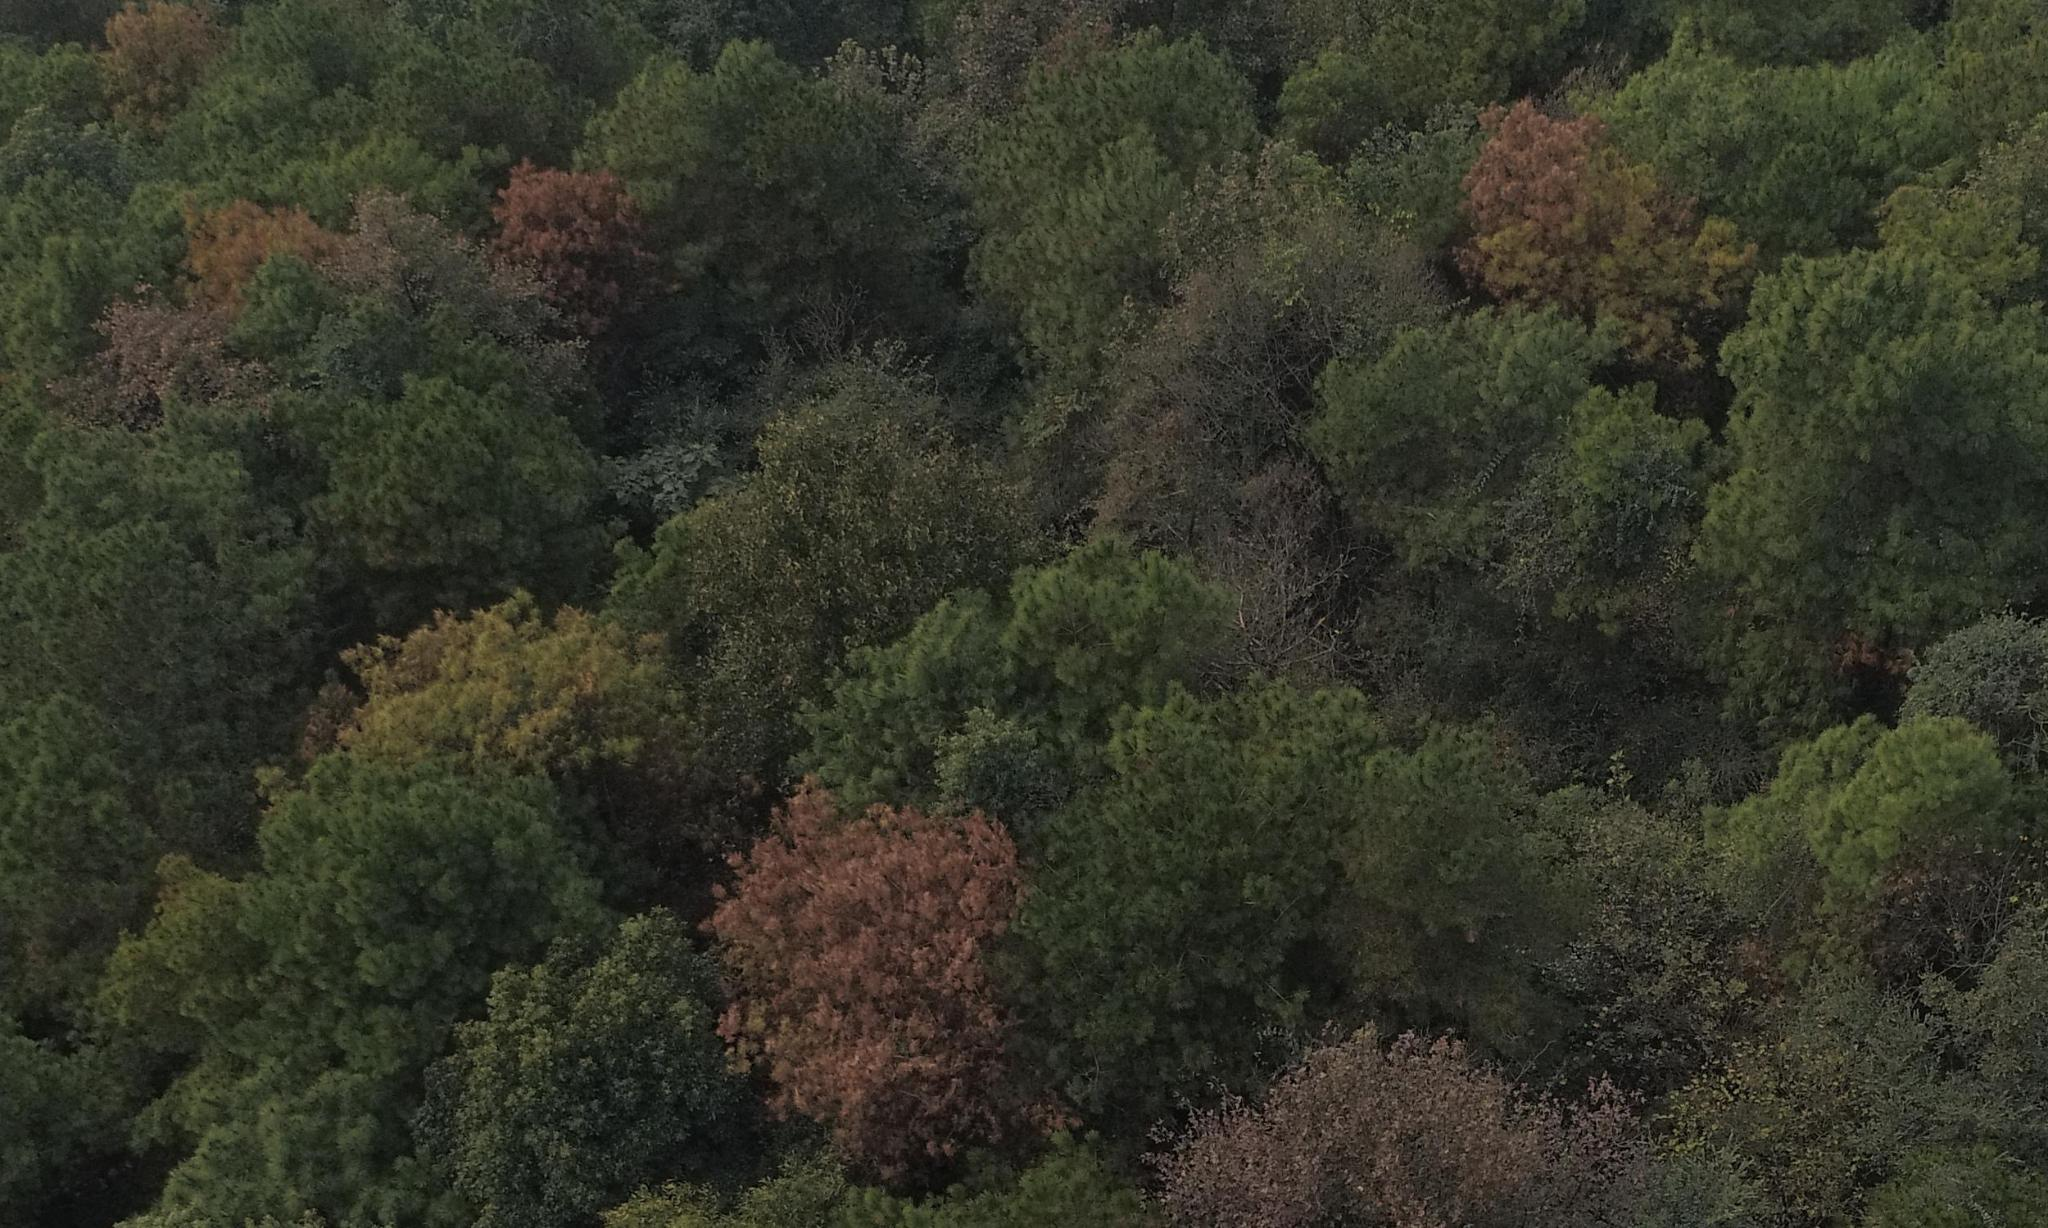heavy: (718, 791, 1009, 1151), (482, 153, 639, 303), (1474, 92, 1589, 165)
light: (330, 608, 653, 776), (1459, 181, 1741, 365), (180, 199, 351, 307)
